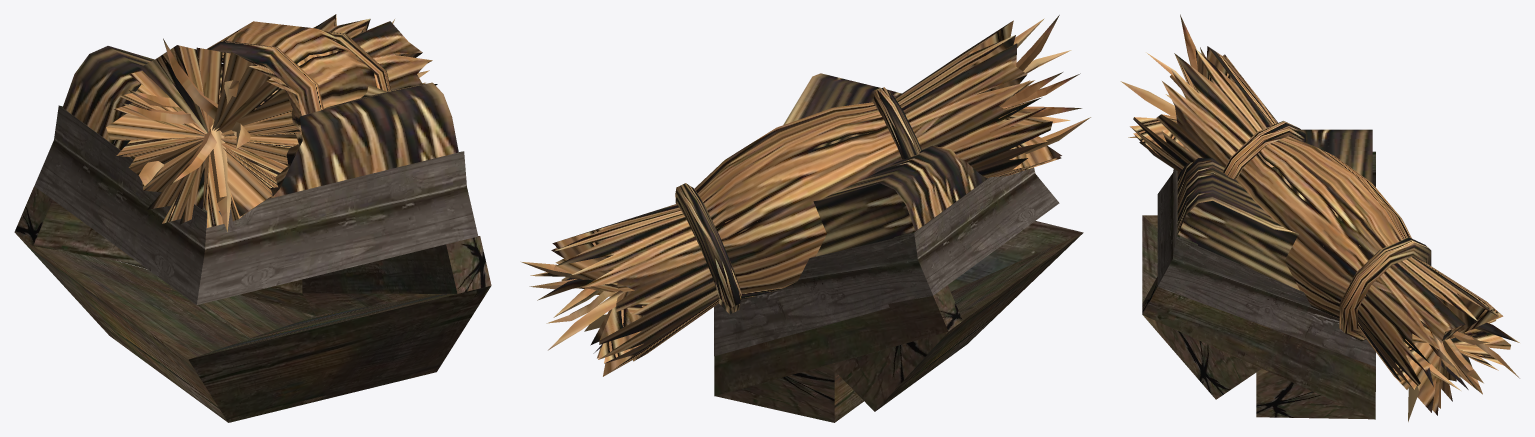
3 renders of one model, left to right at view 1: azimuth 30°, elevation 25°; view 2: azimuth 150°, elevation 25°; view 3: azimuth 270°, elevation 25°, orthographic. The views are drawn at different scales.
Visible parts, largest first — view 1: SM_BB_T1_Extended_Roof_Small_Shallow_Valley_LOD0; view 2: SM_BB_T1_Extended_Roof_Small_Shallow_Valley_LOD0; view 3: SM_BB_T1_Extended_Roof_Small_Shallow_Valley_LOD0.
Boxes of the visible parts, left/top/right/bottom form: SM_BB_T1_Extended_Roof_Small_Shallow_Valley_LOD0: left=14, top=14, right=491, bottom=422; SM_BB_T1_Extended_Roof_Small_Shallow_Valley_LOD0: left=520, top=15, right=1090, bottom=422; SM_BB_T1_Extended_Roof_Small_Shallow_Valley_LOD0: left=1120, top=14, right=1519, bottom=421.
Bounding box in the file's own units: 1.53 × 1.32 × 1.55.
Materials: 3 (3 with a texture image).
